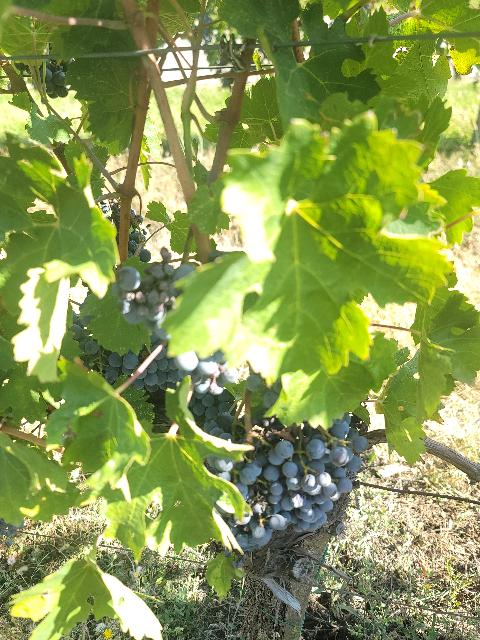grapes: (262, 434, 360, 530), (112, 248, 195, 340)
